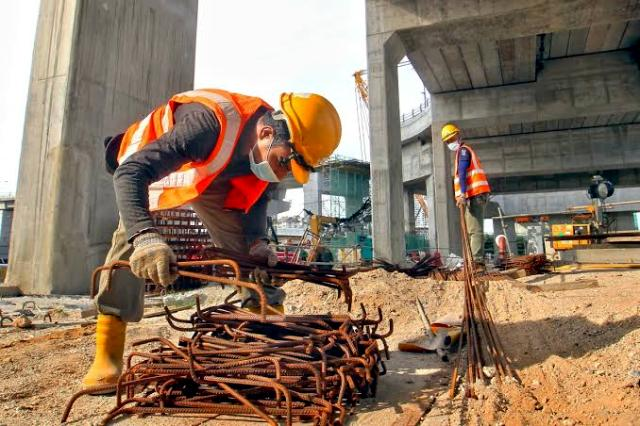helmet: (278, 90, 342, 188), (439, 123, 461, 145)
vest: (112, 81, 288, 210), (453, 141, 491, 208)
